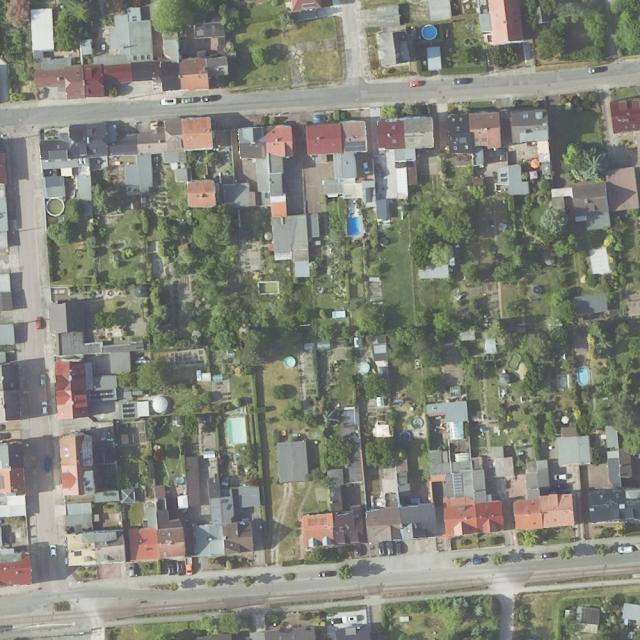PV: (344, 140, 365, 152), (453, 473, 463, 494)
ST: (301, 2, 314, 9), (458, 136, 467, 144)
